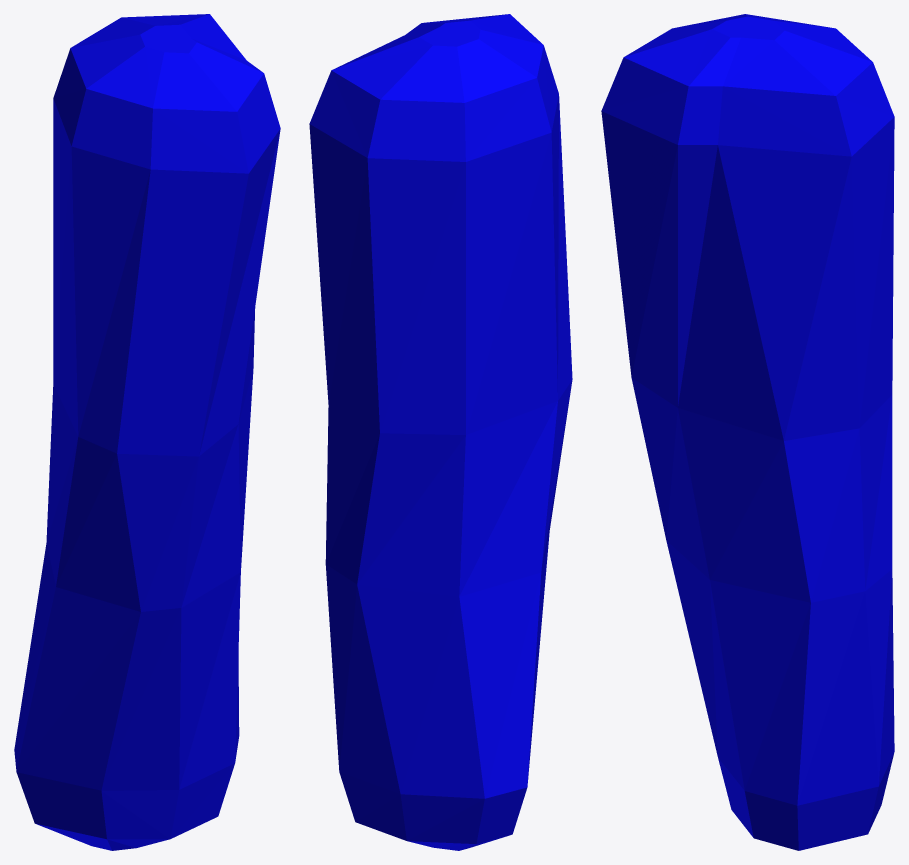
Rendered from RShoulder3_mesh.dae.
The picture shows the model from 3 angles, left to right: view 1: azimuth 30°, elevation 25°; view 2: azimuth 150°, elevation 25°; view 3: azimuth 270°, elevation 25°; orthographic projection. The views are drawn at different scales.
Parts seen in each view (by area): view 1: RShoulder3; view 2: RShoulder3; view 3: RShoulder3.
Boxes of the visible parts, x1,y1,x2,y2 form: RShoulder3: (14, 14, 280, 850); RShoulder3: (309, 14, 572, 850); RShoulder3: (601, 14, 894, 850).
Bounding box in the file's own units: 0.1079 × 0.389 × 0.1274.
